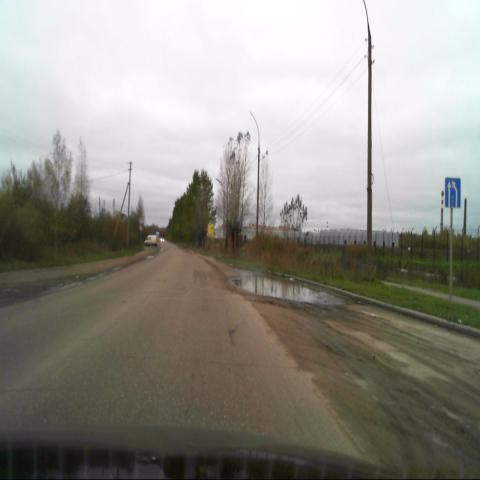5_15_5: (444, 177, 461, 208)
